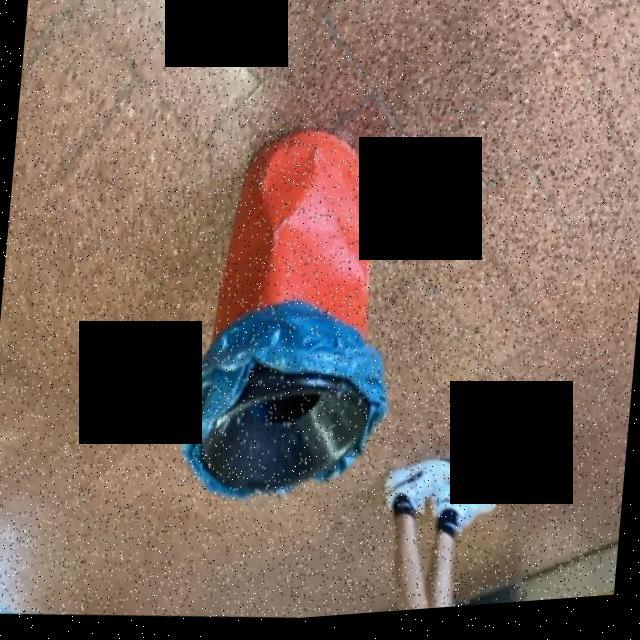bin: (145, 86, 429, 538)
